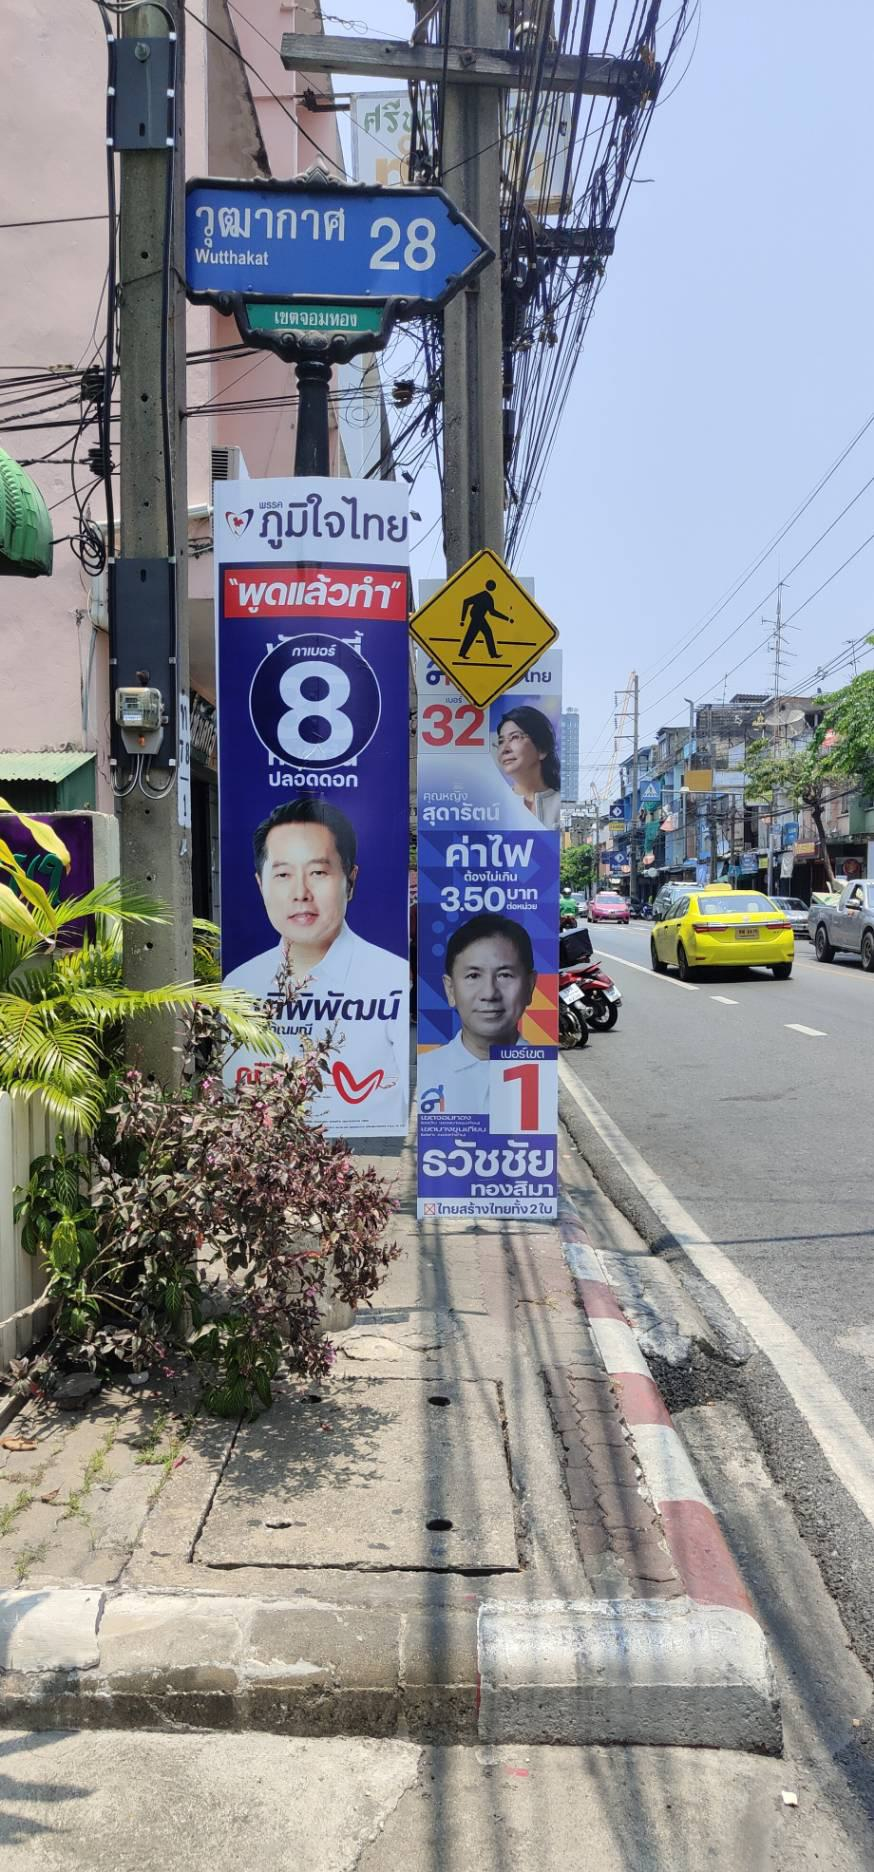Banner: (213, 474, 418, 1149), (408, 648, 564, 1228)
